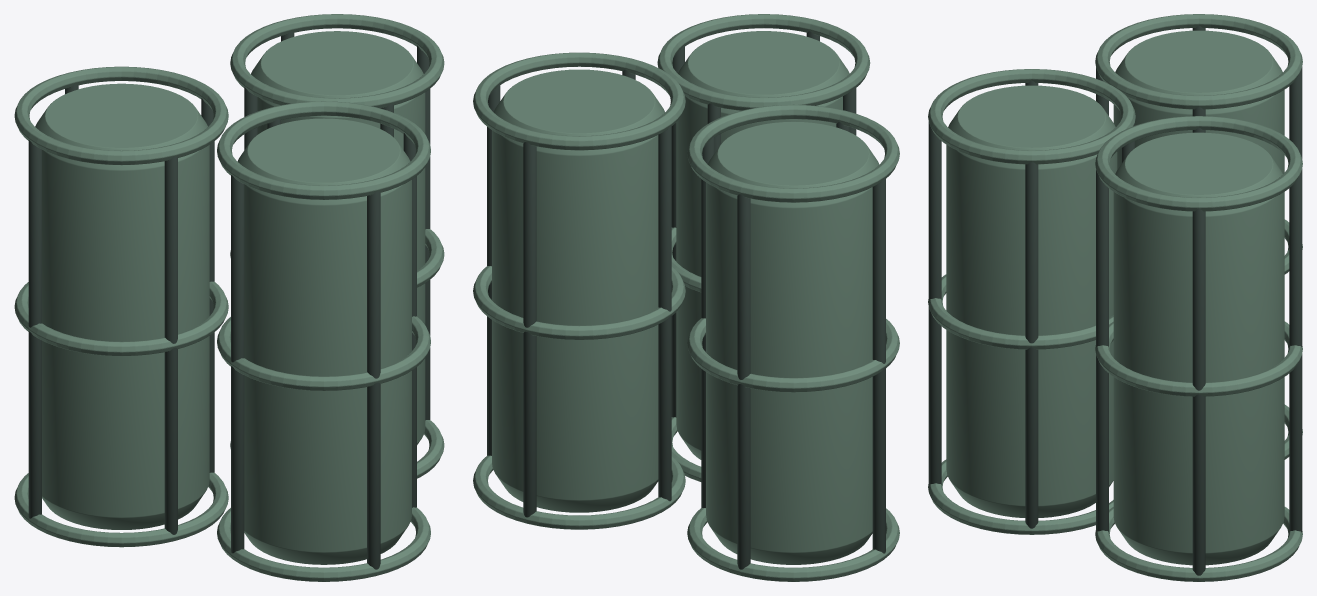
3 views of the same model, side by side, from view 1: azimuth 30°, elevation 25°; view 2: azimuth 150°, elevation 25°; view 3: azimuth 270°, elevation 25° (orthographic). The views are drawn at different scales.
Parts seen in each view (by area): view 1: TI051 / bulk food canister.002, TI051 / bulk food canister, TI051 / bulk food canister.001, TI051 / canister end frame.002, TI051 / canister end frame.008, TI051 / canister end frame.005, TI051 / canister protective rail.011, TI051 / canister protective rail.003, TI051 / canister protective rail.002, TI051 / canister protective rail.010, TI051 / canister end frame, TI051 / canister end frame.001 (+7 smaller); view 2: TI051 / bulk food canister.001, TI051 / bulk food canister, TI051 / bulk food canister.002, TI051 / canister end frame.002, TI051 / canister end frame.005, TI051 / canister end frame.008, TI051 / canister protective rail.001, TI051 / canister protective rail.005, TI051 / canister protective rail.006, TI051 / canister protective rail.002, TI051 / canister end frame.003, TI051 / canister end frame.004 (+7 smaller); view 3: TI051 / bulk food canister.001, TI051 / bulk food canister.002, TI051 / bulk food canister, TI051 / canister end frame.005, TI051 / canister end frame.002, TI051 / canister end frame.008, TI051 / canister protective rail.008, TI051 / canister protective rail.004, TI051 / canister protective rail.011, TI051 / canister protective rail.005, TI051 / canister protective rail.007, TI051 / canister end frame.003 (+4 smaller).
Part boxes in pixels (x1,y1,x2,y2): TI051 / bulk food canister.002: (237, 118, 411, 564); TI051 / bulk food canister: (35, 83, 209, 529); TI051 / bulk food canister.001: (251, 31, 425, 444); TI051 / canister end frame.002: (14, 66, 228, 165); TI051 / canister end frame.008: (217, 101, 430, 199); TI051 / canister end frame.005: (230, 14, 444, 108); TI051 / canister protective rail.011: (367, 191, 380, 569); TI051 / canister protective rail.003: (164, 156, 177, 534); TI051 / canister protective rail.002: (28, 140, 41, 518); TI051 / canister protective rail.010: (231, 175, 244, 553); TI051 / canister end frame: (14, 472, 228, 547); TI051 / canister end frame.001: (14, 281, 228, 356); TI051 / bulk food canister.001: (492, 69, 664, 512); TI051 / bulk food canister: (706, 121, 879, 564); TI051 / bulk food canister.002: (676, 31, 849, 459); TI051 / canister end frame.002: (687, 104, 899, 202); TI051 / canister end frame.005: (473, 52, 685, 150); TI051 / canister end frame.008: (657, 14, 870, 110); TI051 / canister protective rail.001: (737, 194, 750, 569); TI051 / canister protective rail.005: (523, 142, 536, 517); TI051 / canister protective rail.006: (658, 125, 671, 501); TI051 / canister protective rail.002: (872, 177, 885, 553); TI051 / canister end frame.003: (473, 455, 685, 529); TI051 / canister end frame.004: (473, 266, 685, 339); TI051 / bulk food canister.001: (1113, 132, 1284, 565); TI051 / bulk food canister.002: (946, 85, 1117, 517); TI051 / bulk food canister: (1113, 30, 1284, 173); TI051 / canister end frame.005: (1095, 116, 1302, 211); TI051 / canister end frame.002: (1095, 14, 1302, 109); TI051 / canister end frame.008: (928, 69, 1135, 164); TI051 / canister protective rail.008: (1025, 162, 1038, 528); TI051 / canister protective rail.004: (1192, 209, 1205, 575); TI051 / canister protective rail.011: (928, 122, 941, 485); TI051 / canister protective rail.005: (1289, 169, 1302, 532); TI051 / canister protective rail.007: (1096, 170, 1108, 532); TI051 / canister end frame.003: (1095, 507, 1302, 581).
Size of the model in its own units: 2.42 by 2.28 by 2.02.
